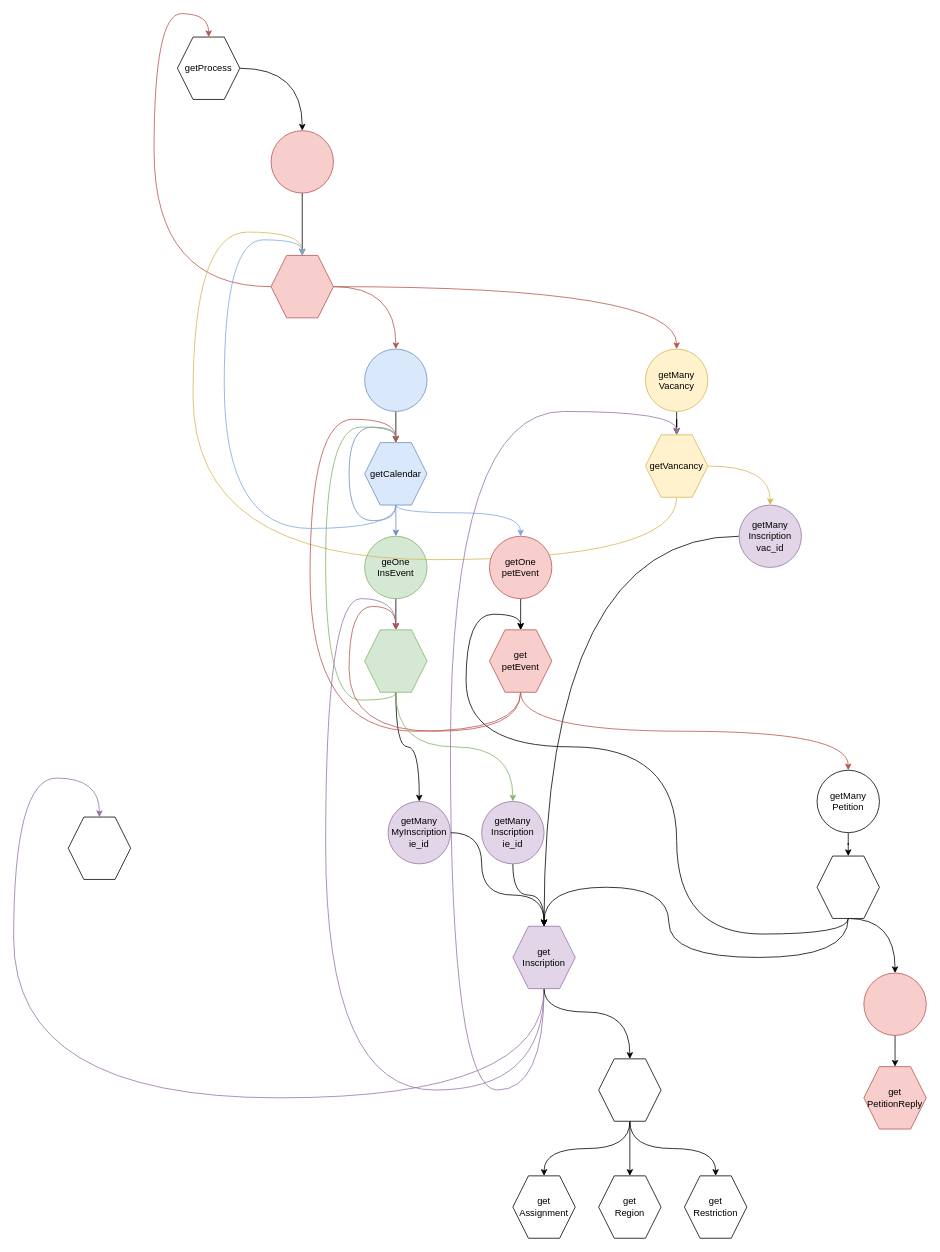
Some shapes in this 940 by 1252 pixel diagram are drawn without their labels. Each missing label, with the centre of its shape:
"get InsEvent" goes at [395,660].
"get Person" goes at [99,847].
"get Petition" goes at [847,886].
"get Vacancy" goes at [629,1089].
"getCall" goes at [301,286].
"getMany Calendar" goes at [395,379].
"getManyCall" goes at [301,161].
"getOne PetitionReply p_id" goes at [894,1003].
